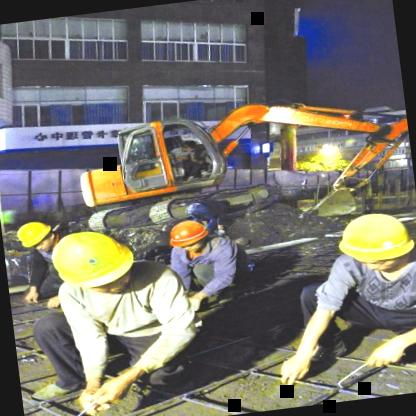helmet: (46, 226, 140, 300), (329, 208, 416, 280), (12, 218, 60, 258), (166, 216, 214, 254)
